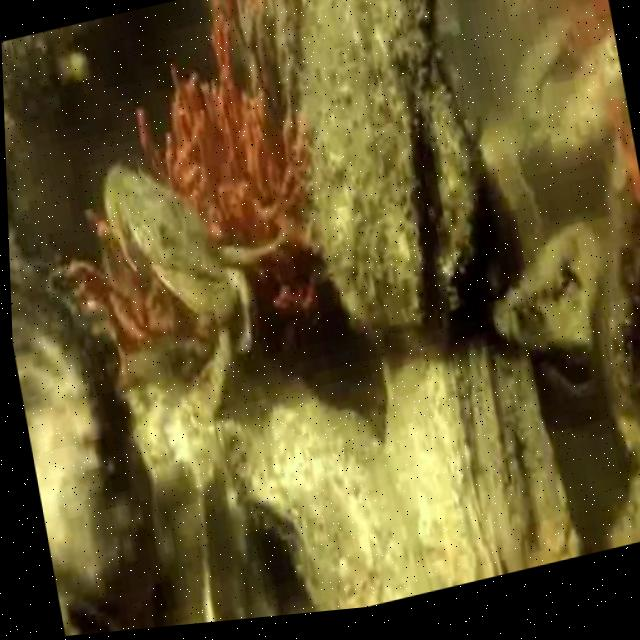Oyster-Indeterminate: (9, 230, 159, 610), (7, 182, 19, 225)
Oyster-Open: (310, 0, 485, 338), (57, 590, 119, 636)
